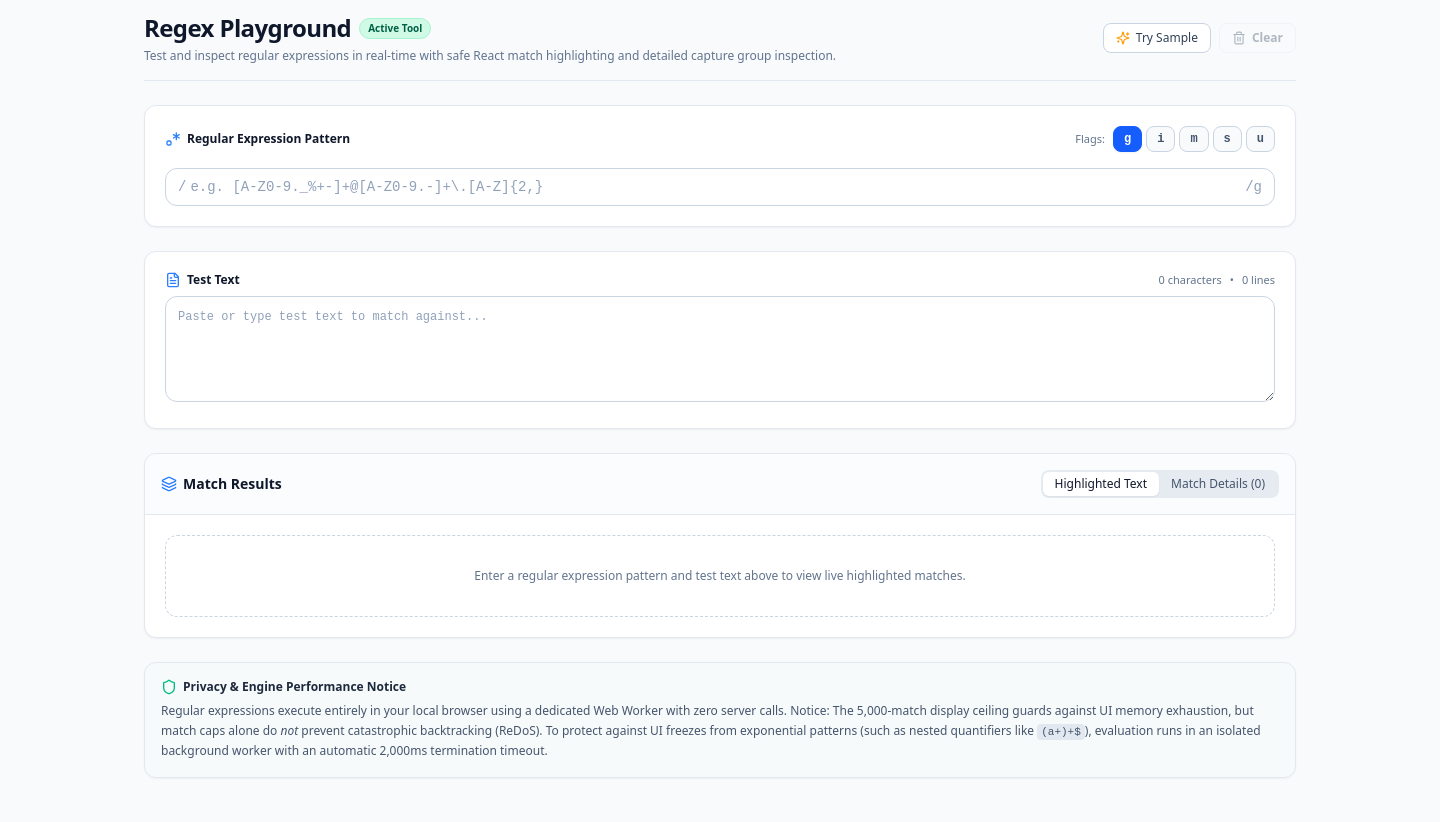
RegexPlayground Component › displays error alert when clipboard copy fails
Click the button "Try Sample" at (1157, 38), box [1103,23,1211,53]
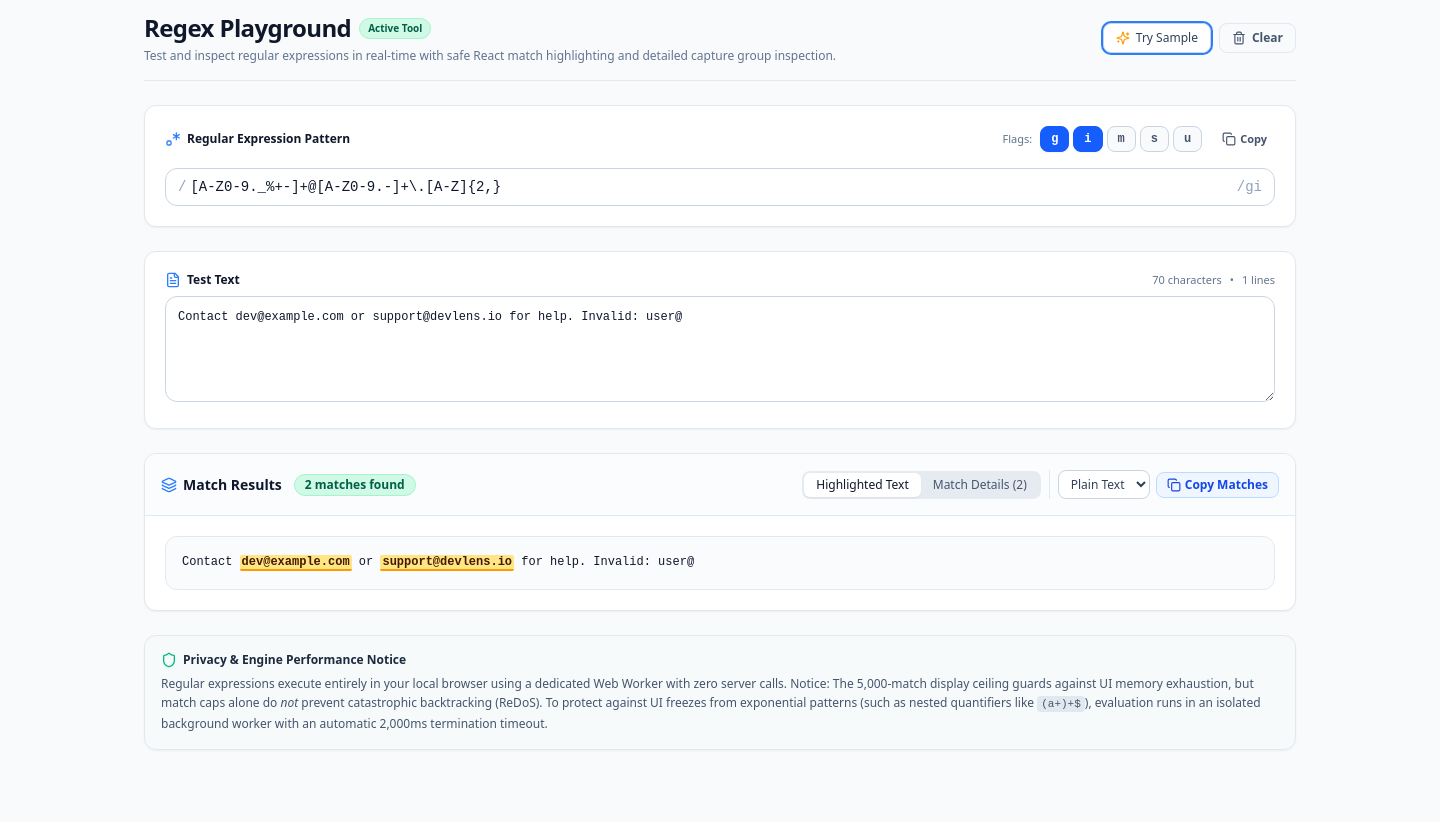
Click the button with aria-label "Copy regex pattern with flags" at (1245, 139), box [1214,127,1275,151]
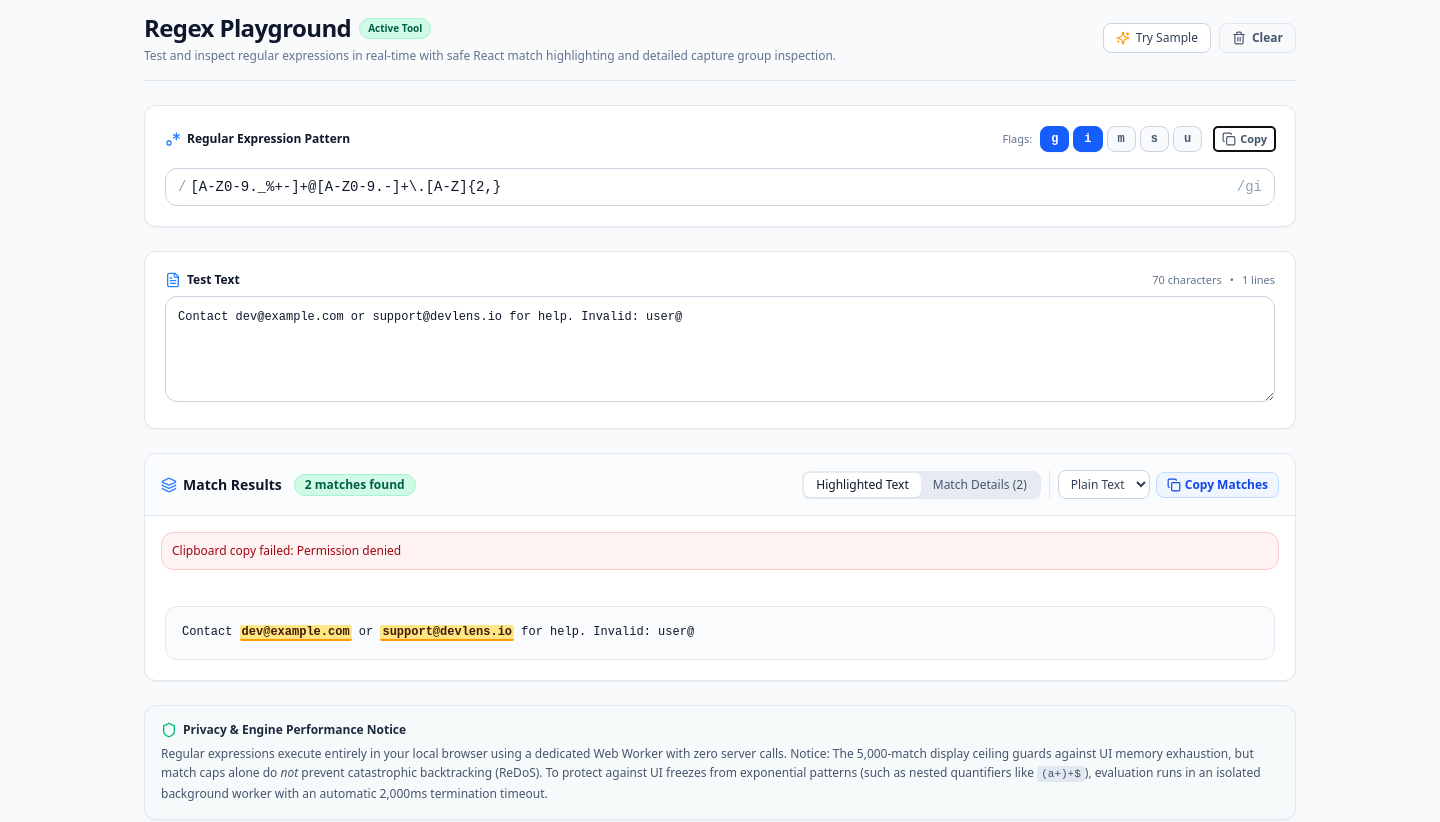
Expected: the text "Clipboard copy failed: Permission denied" is shown, [172,542,401,559]
